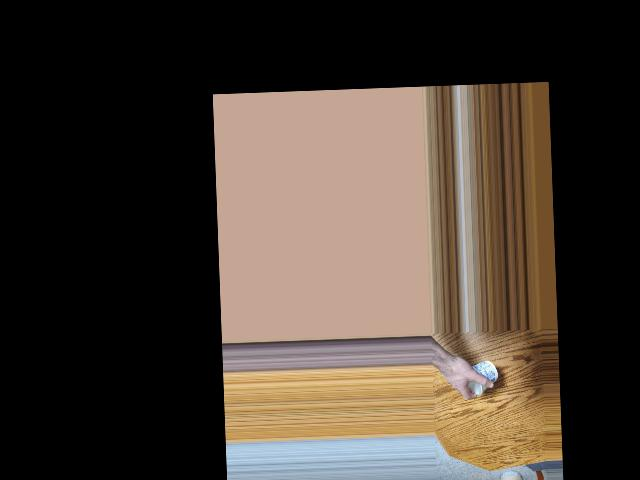cotage: (464, 358, 497, 394)
